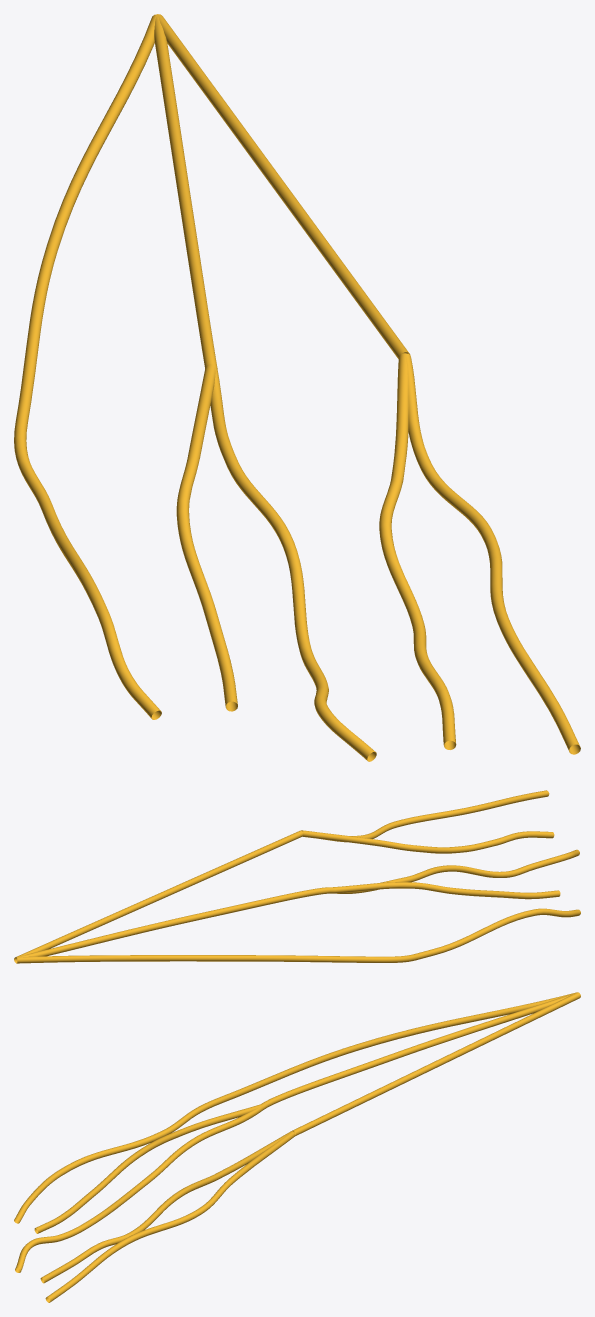
The model's file is nervoso-common-plantar-digital-branches-of-lateral-plantar-nerve-r.glb.
3 views of the same model, one above another, from view 1: azimuth 30°, elevation 25°; view 2: azimuth 150°, elevation 25°; view 3: azimuth 330°, elevation 25° (orthographic). The views are drawn at different scales.
Visible parts, largest first — view 1: Proper plantar digital branches of lateral plantar nerve.r, Common plantar digital branches of lateral plantar nerve.r; view 2: Proper plantar digital branches of lateral plantar nerve.r, Common plantar digital branches of lateral plantar nerve.r; view 3: Proper plantar digital branches of lateral plantar nerve.r, Common plantar digital branches of lateral plantar nerve.r.
Part boxes in pixels (x1,y1,x2,y2): Proper plantar digital branches of lateral plantar nerve.r: (14, 353, 580, 761); Common plantar digital branches of lateral plantar nerve.r: (16, 14, 410, 419); Proper plantar digital branches of lateral plantar nerve.r: (301, 790, 580, 962); Common plantar digital branches of lateral plantar nerve.r: (14, 830, 374, 963); Proper plantar digital branches of lateral plantar nerve.r: (14, 1097, 295, 1302); Common plantar digital branches of lateral plantar nerve.r: (221, 992, 580, 1135).
Bounding box in the file's own units: 0.0513 × 0.0161 × 0.1158.
